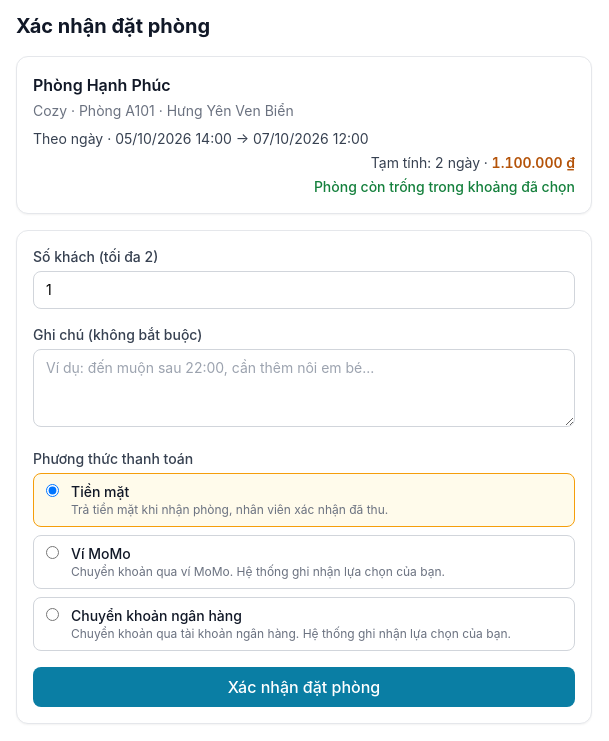
Test case: Booking - tao don › ThanhCong_HienMaDon_KhongHienId
Expected: the heading "Xác nhận đặt phòng" is shown, [16, 14, 210, 38]
Expected: the text "Phòng còn trống trong khoảng đã chọn" is shown, [314, 178, 575, 195]
Replace the text in the number field labelled "Số khách (tối đa 2)" with "2": {"x": 304, "y": 290} [33, 271, 575, 309]
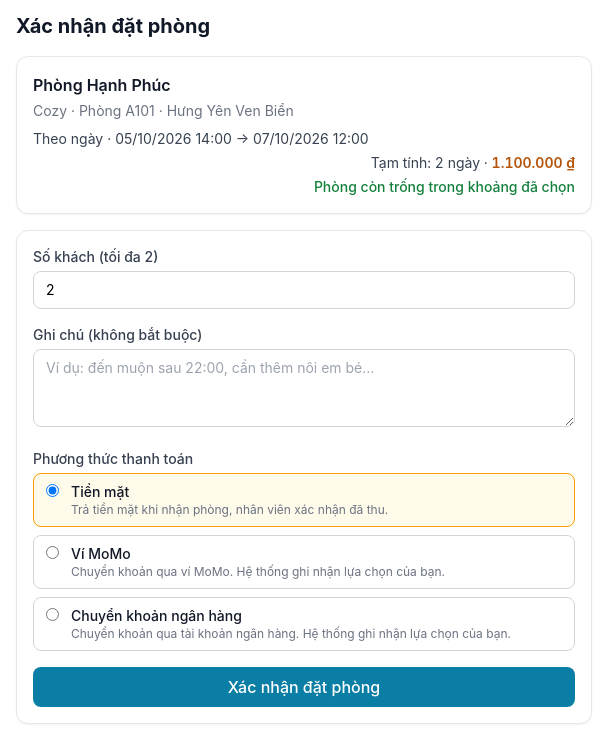
Click the button "Xác nhận đặt phòng": {"x": 304, "y": 687} [33, 667, 575, 707]
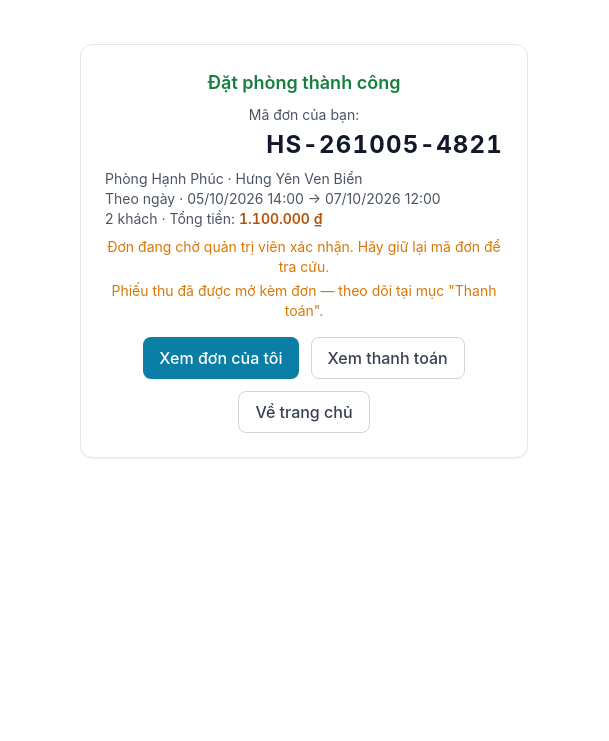
Now the text "Đặt phòng thành công" is shown, box [208, 72, 400, 93]
Now the text "HS-261005-4821" is shown, box [266, 130, 503, 159]
